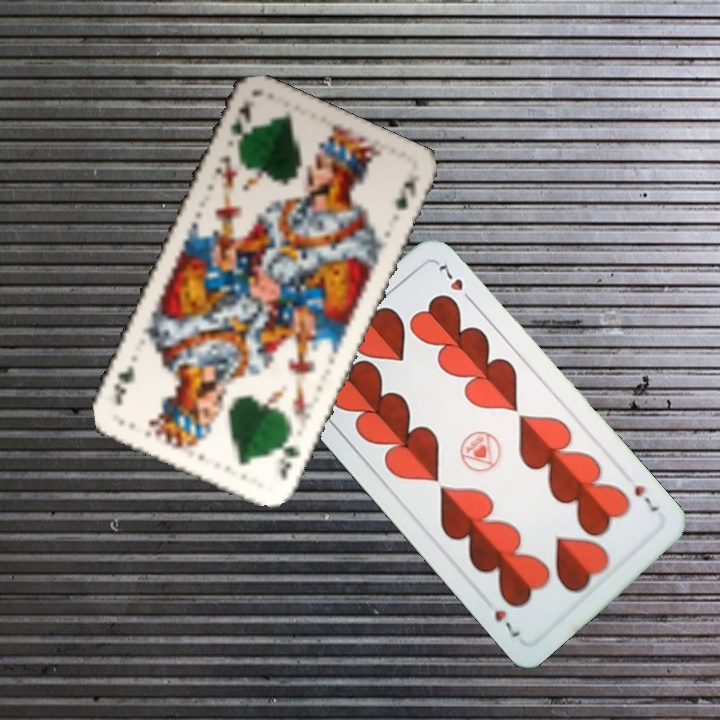GK: (225, 97, 255, 153), (274, 431, 304, 484)
H7: (630, 480, 661, 514)
